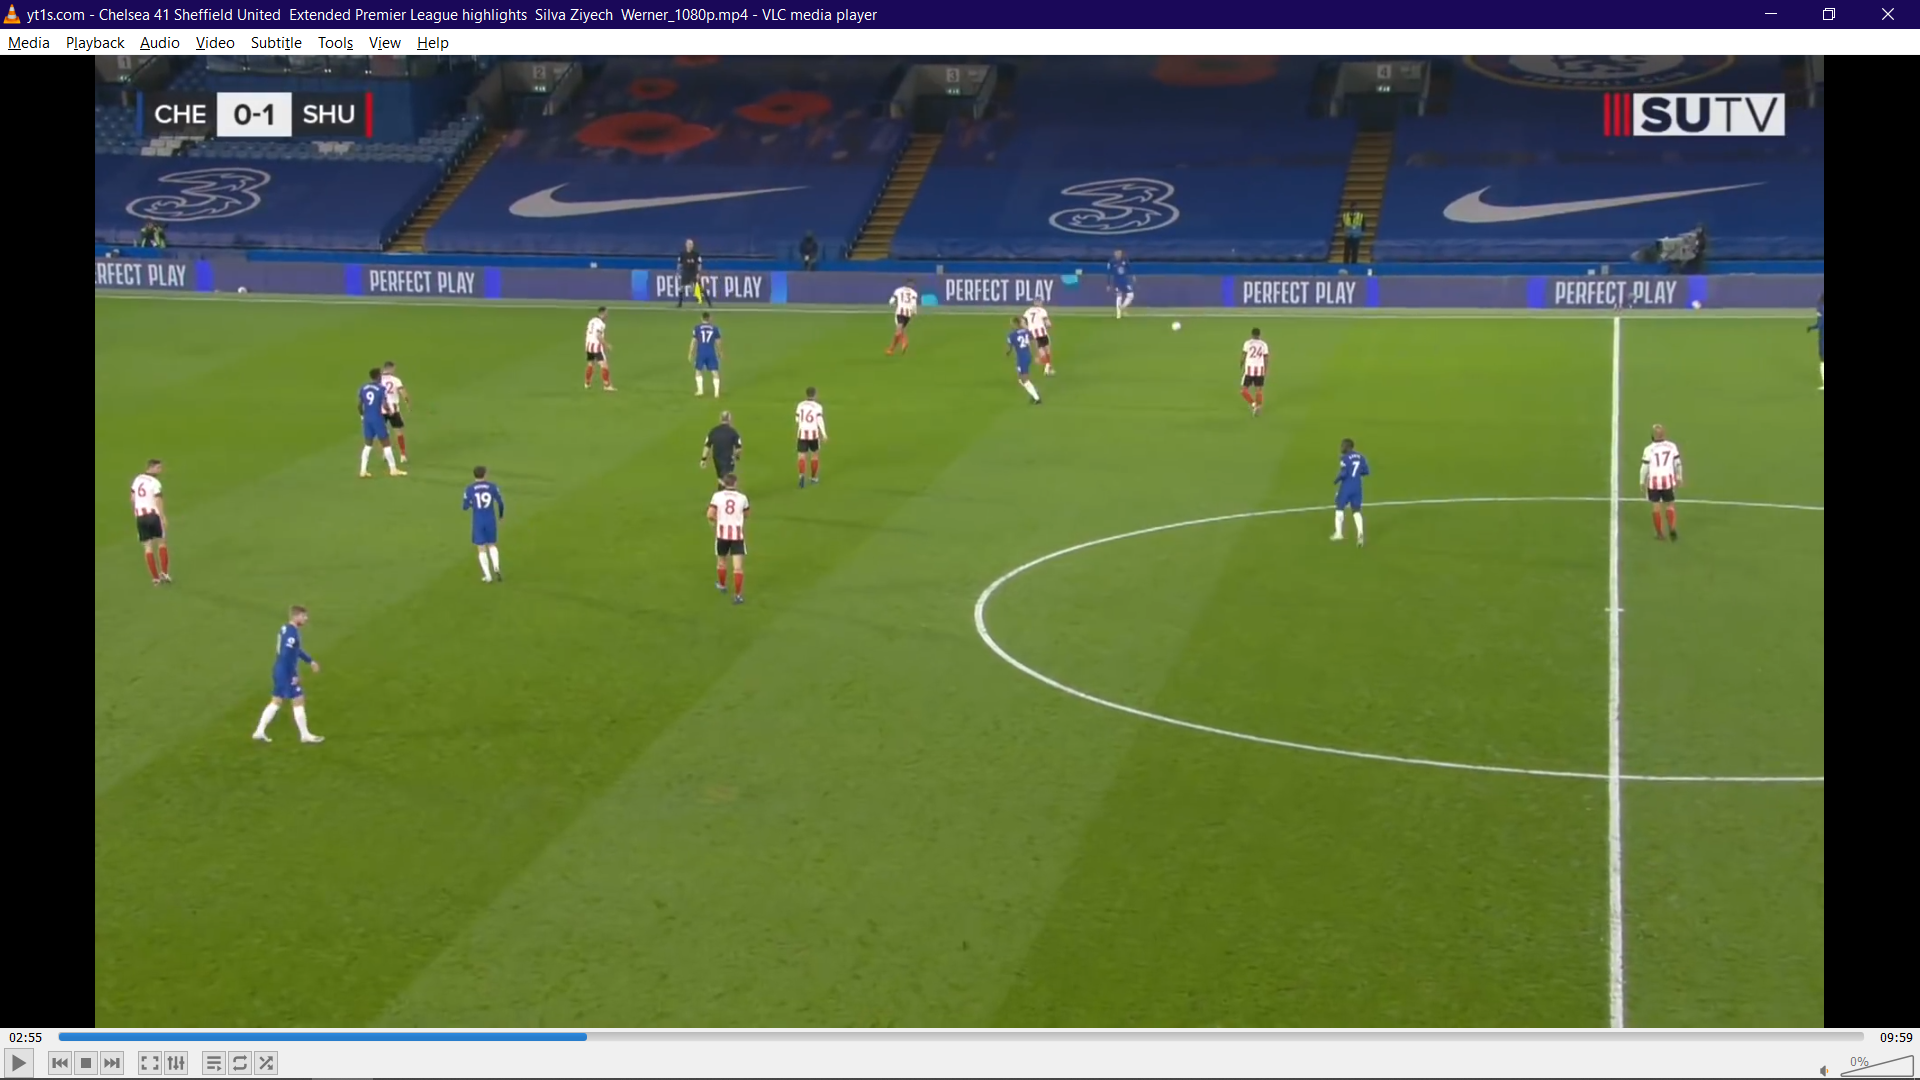Player: (239, 606, 329, 750), (113, 448, 189, 587), (1628, 407, 1695, 547), (451, 457, 520, 582), (704, 470, 757, 606), (1326, 431, 1381, 552), (573, 294, 627, 402), (680, 305, 730, 407), (1234, 314, 1278, 423)
